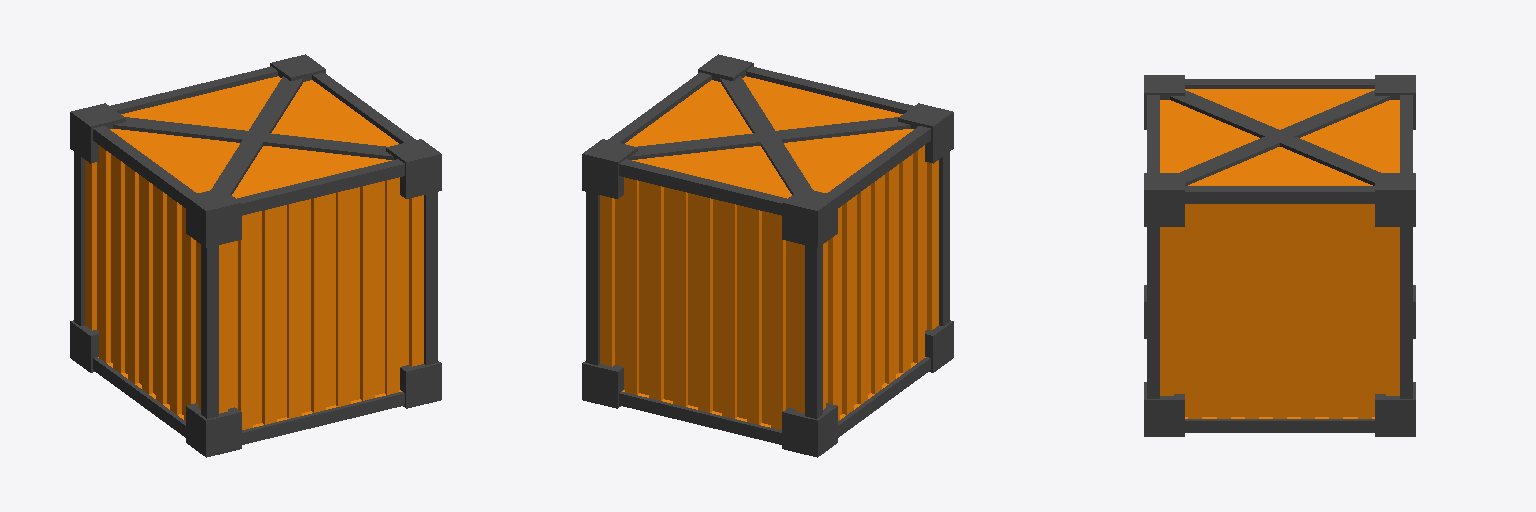
Rendered from crate.obj.
The picture shows the model from 3 angles: view 1: azimuth 30°, elevation 25°; view 2: azimuth 150°, elevation 25°; view 3: azimuth 270°, elevation 25°; orthographic projection.
Visible parts, largest first — view 1: grills_01_geo.001, grills_02_geo.001, crate_geo.001, flat_geo.001, corners_geo.001, cross_geo.001; view 2: grills_01_geo.001, grills_02_geo.001, crate_geo.001, flat_geo.001, corners_geo.001, cross_geo.001; view 3: grills_02_geo.001, flat_geo.001, crate_geo.001, corners_geo.001, cross_geo.001.
Part boxes in pixels (x1,y1,x2,y2): grills_01_geo.001: (219, 177, 423, 429); grills_02_geo.001: (85, 145, 200, 420); crate_geo.001: (74, 66, 437, 444); flat_geo.001: (110, 76, 398, 198); corners_geo.001: (70, 54, 441, 457); cross_geo.001: (113, 76, 393, 194); grills_01_geo.001: (600, 177, 804, 429); grills_02_geo.001: (823, 145, 938, 420); crate_geo.001: (586, 66, 949, 444); flat_geo.001: (625, 76, 913, 198); corners_geo.001: (582, 54, 953, 457); cross_geo.001: (630, 76, 910, 194); grills_02_geo.001: (1160, 204, 1399, 418); flat_geo.001: (1160, 89, 1399, 185); crate_geo.001: (1147, 79, 1412, 432); corners_geo.001: (1144, 75, 1415, 436); cross_geo.001: (1170, 90, 1389, 185).
Size of the model in its own units: 1 by 1 by 1.